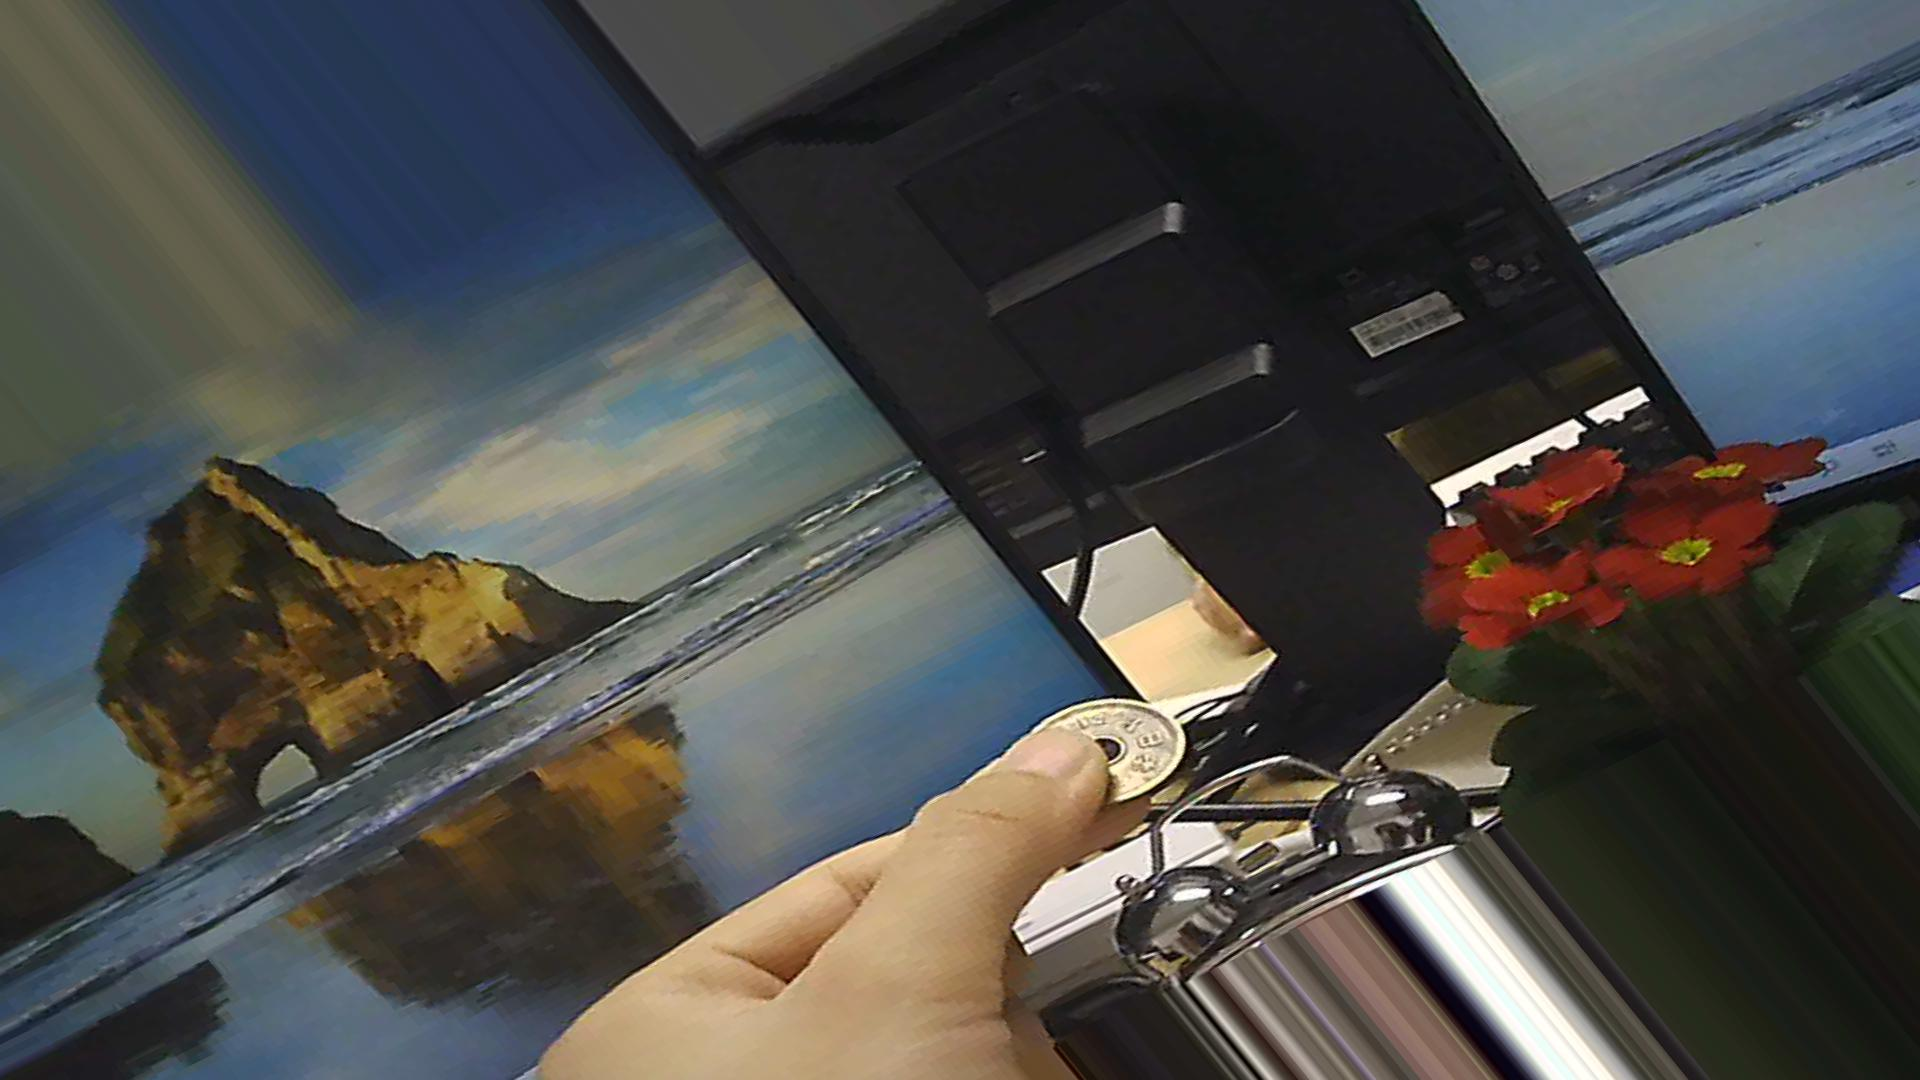5 Yen: (1025, 695, 1197, 802)
